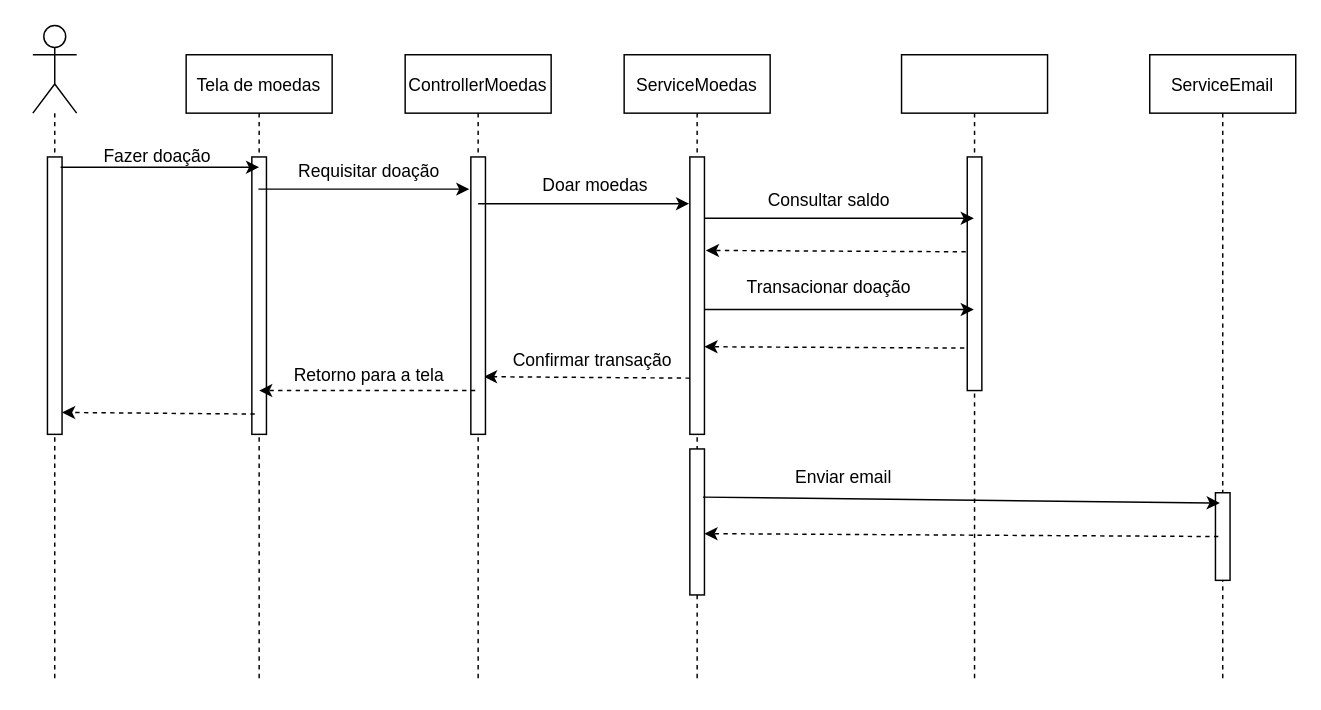
This 1321x710 diagram has some shape labels left out. The shapes that lost their labels are listed below. From the top down, each one's box as (x1, y1, x2, y2) in pixels, then its label:
(31, 24, 77, 113): Usuário
(900, 53, 1048, 683): Banco de dados
